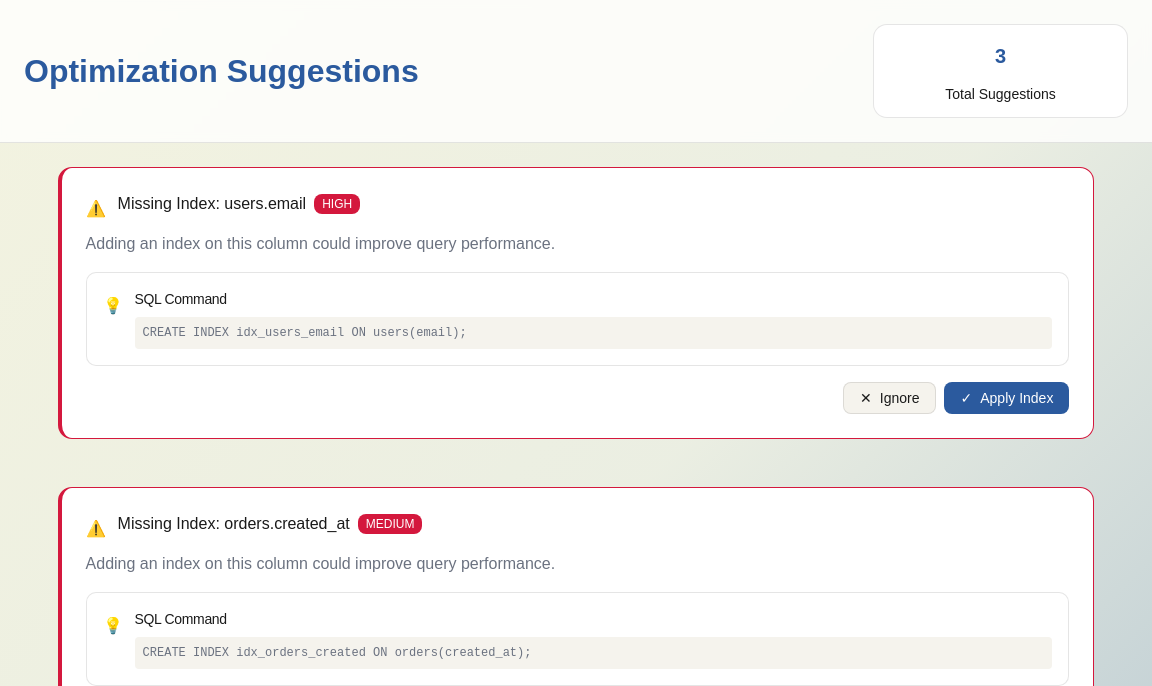
Test: Optimization Component › Multiple Suggestions › should update total count when dismissing items
The width and height of the screenshot is (1152, 686).
Check: the text "3" is shown, box [995,38,1006,74]
Click the 1st button "✕ Ignore": [890, 398] box [843,382,936,414]
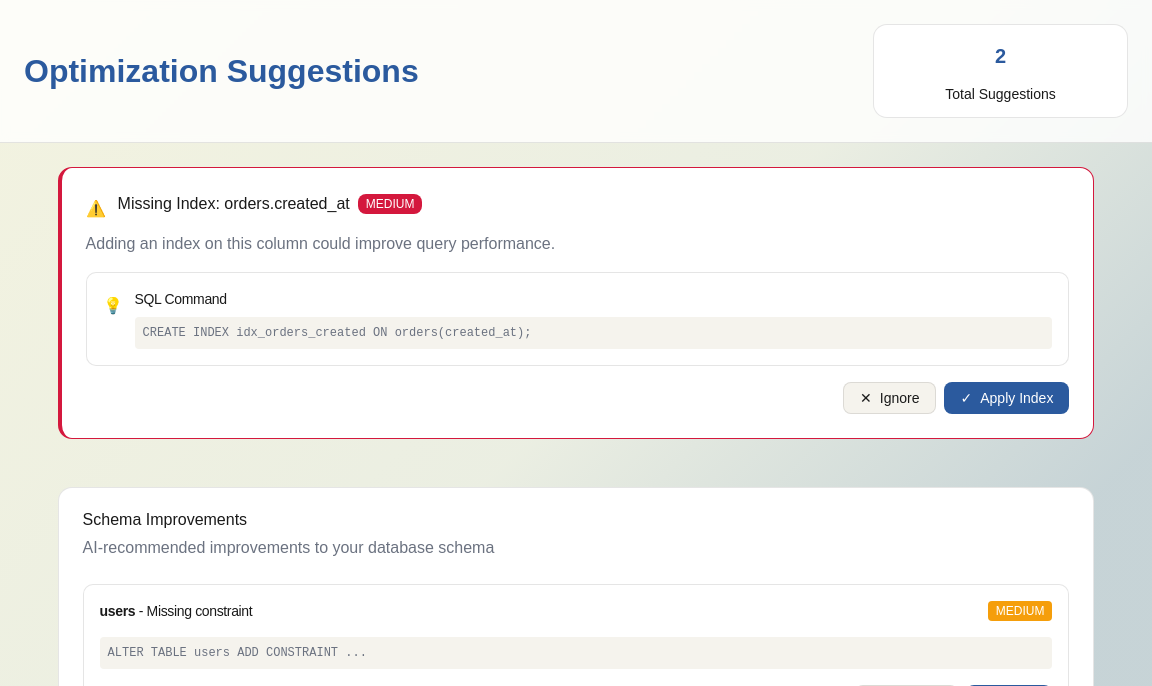
Check: the text "2" is shown, box [995,38,1006,74]
